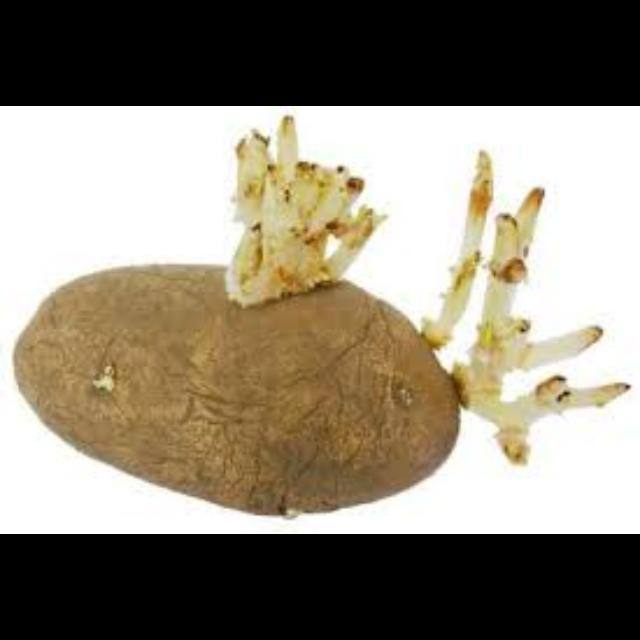Sprouted potato: (14, 153, 592, 509)
